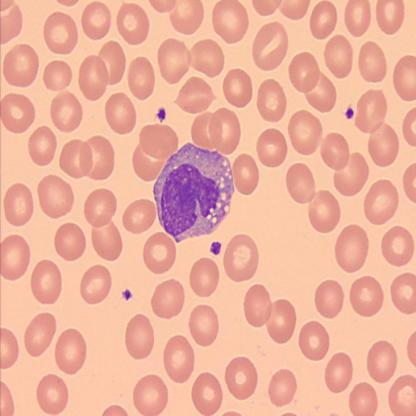Monocyte: (152, 141, 236, 245)
